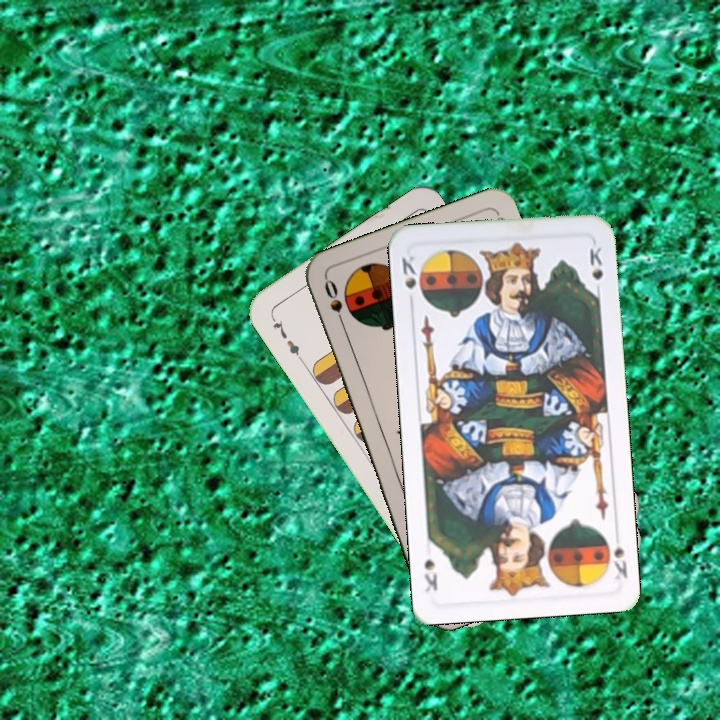E7: (267, 312, 306, 364)
SK: (398, 251, 426, 301), (610, 526, 631, 582)
SO: (320, 275, 349, 333)
